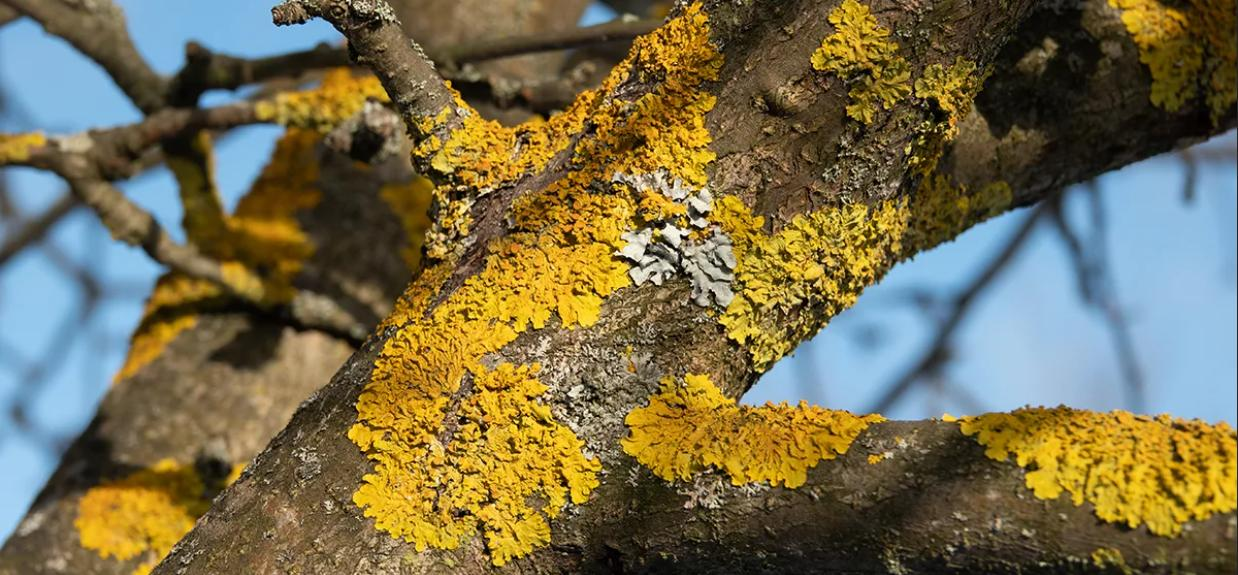lichen: (347, 4, 721, 565), (713, 177, 1010, 371), (959, 406, 1237, 536), (622, 373, 883, 487), (414, 92, 586, 198), (611, 169, 736, 306), (1108, 0, 1237, 122), (812, 0, 910, 123), (912, 57, 983, 167), (427, 210, 471, 256)
